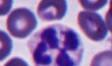N: (29, 24, 84, 66)
